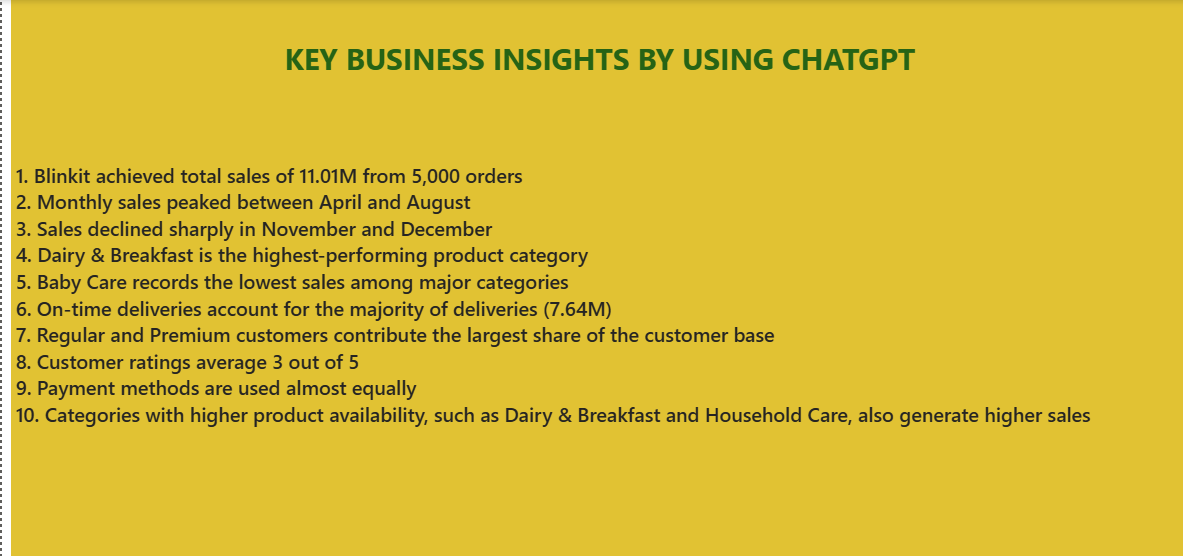

The page's visual inventory and layout, read from the dashboard file:
{"tool":"powerbi","page":{"name":"Key insights using chatgpt","canvas":[1280,720],"ordinal":1},"visuals":[{"type":"textbox","box":[9.7,0,1271.1,685],"z":0}]}

Visuals, with their boxes on the page's 1280x720 design canvas (x1, y1, x2, y2). These are canvas units, not pixel positions in the 1183x556 screenshot, which may show the page scaled, cropped or inside an application window:
textbox: l=10, t=0, r=1281, b=685
